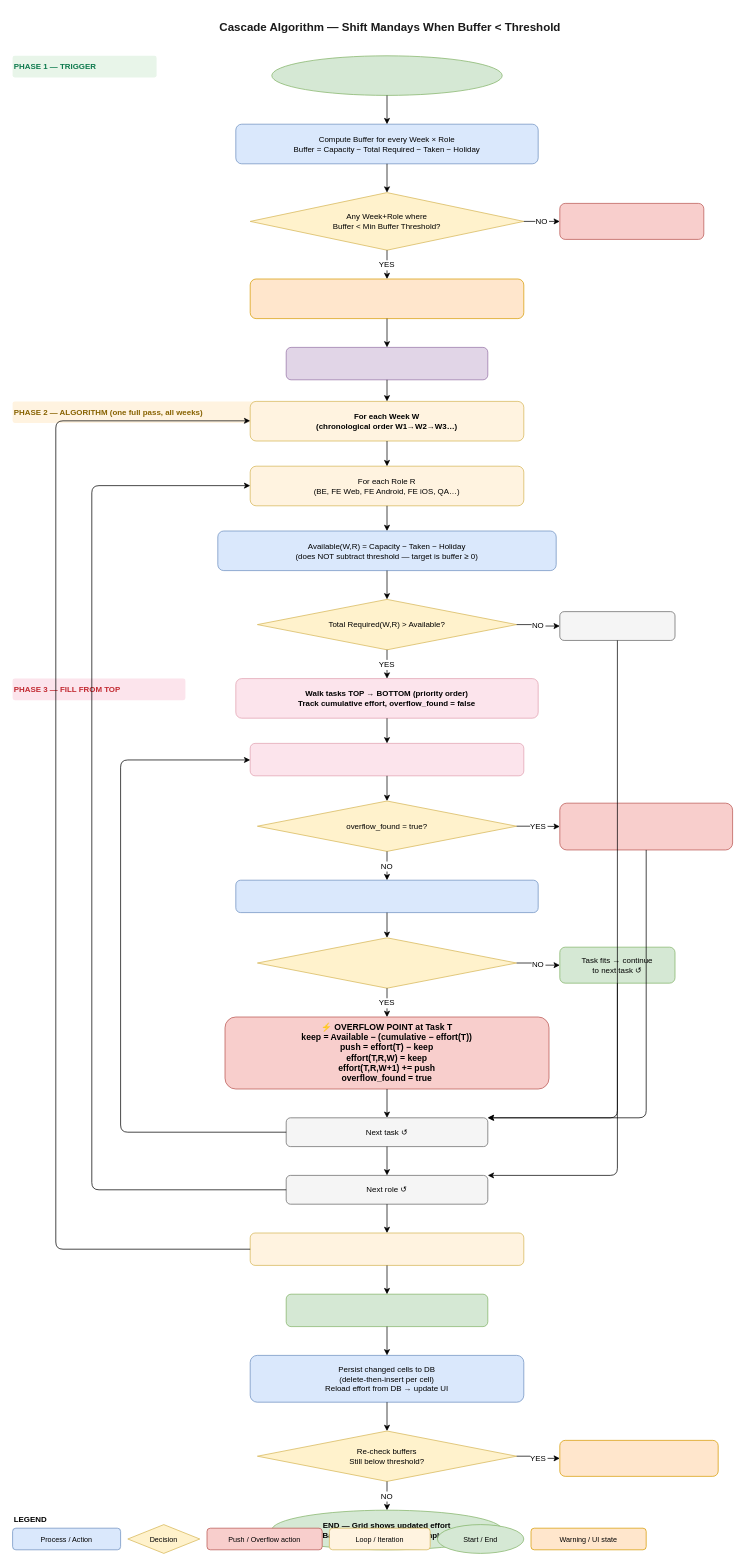
This 745x1566 diagram has some shape labels left out. The centre of each missing label's shape, as x and y in pixels:
All weeks processed: (386,1310)
cumulative += effort(T,R,W): (386,896)
cumulative > Available?: (387,962)
For each Task T (in priority order): (386,759)
Next week ↺ (W+1 may also cascade): (386,1248)
No cascade needed. Grid stays as-is.: (631,221)
Push ALL effort(T,R,W) to W+1 effort(T,R,W) = 0 effort(T,R,W+1) += effort(T,R,W): (646,826)
Show "Run Cascade" banner (amber = below threshold, red = negative): (386,298)
Show banner again User can Run Cascade again: (638,1458)
Skip → next Role: (617,625)
START User enters mandays / capacity changes: (386,75)
User clicks "Run Cascade": (386,363)
